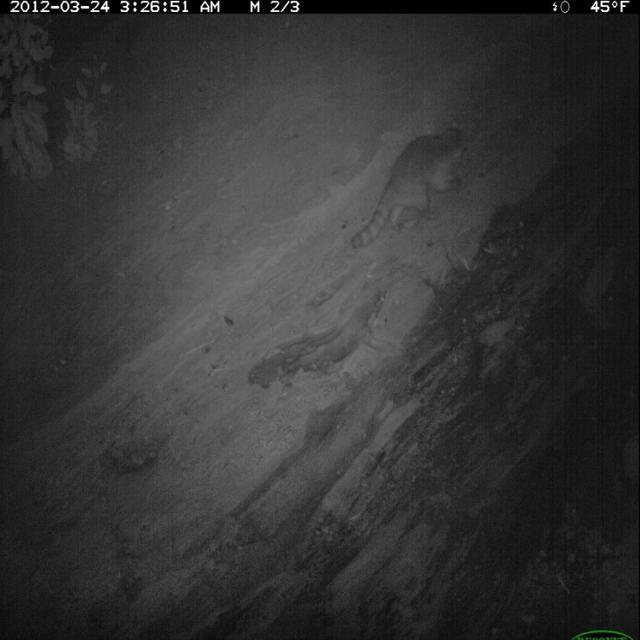raccoon: (346, 124, 471, 256)
